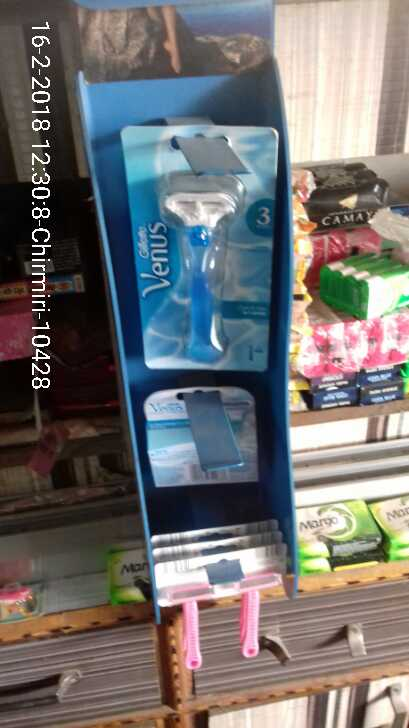venus: (115, 123, 275, 373), (144, 391, 259, 491)
